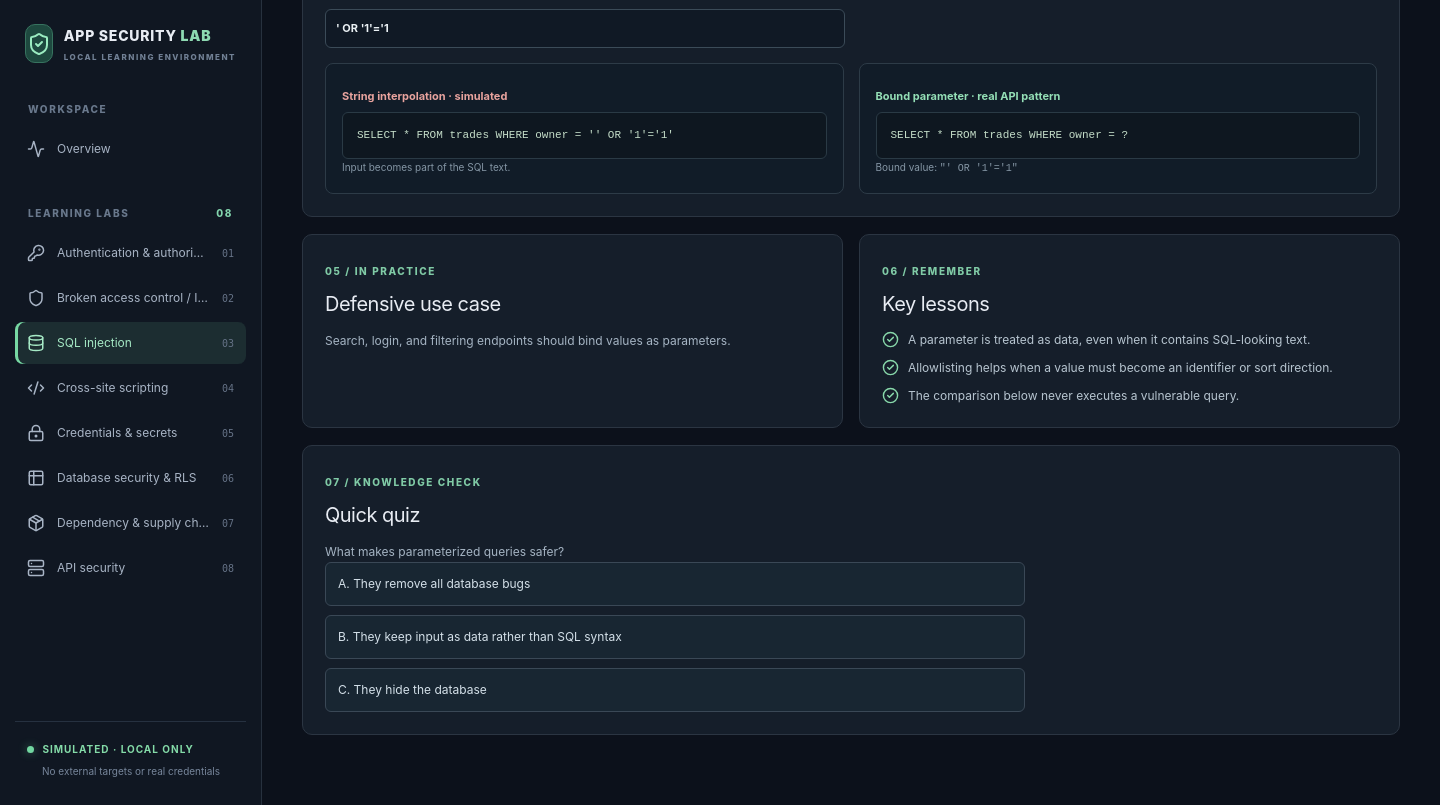
it: learning UI › saves quiz progress after the correct answer
(page scrolled)
Click the button "B. They keep input as data rather than SQL syntax".
click(487, 636)  # box [325,615,1025,659]
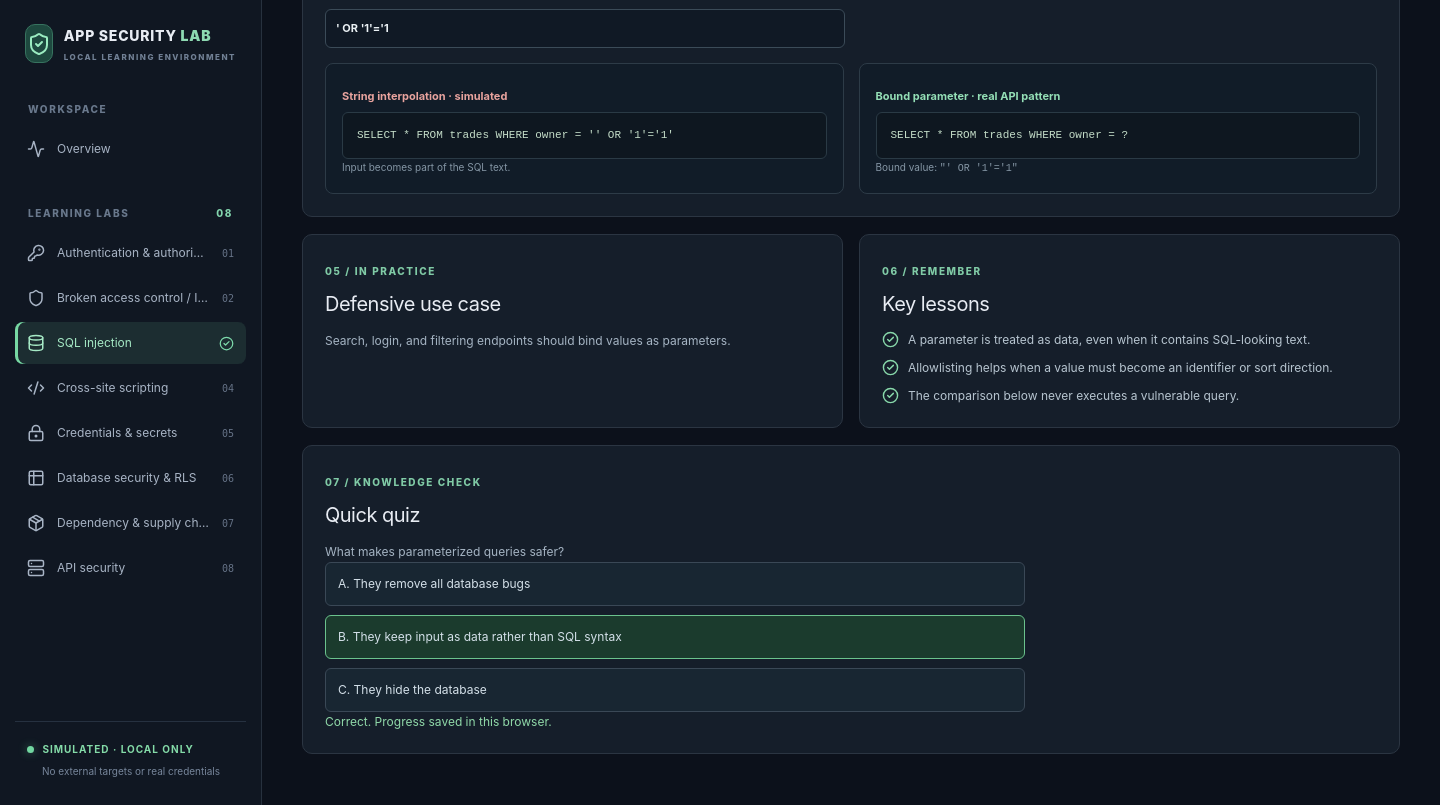
Check: the message shows "Progress saved", box [325,714,552,729]
